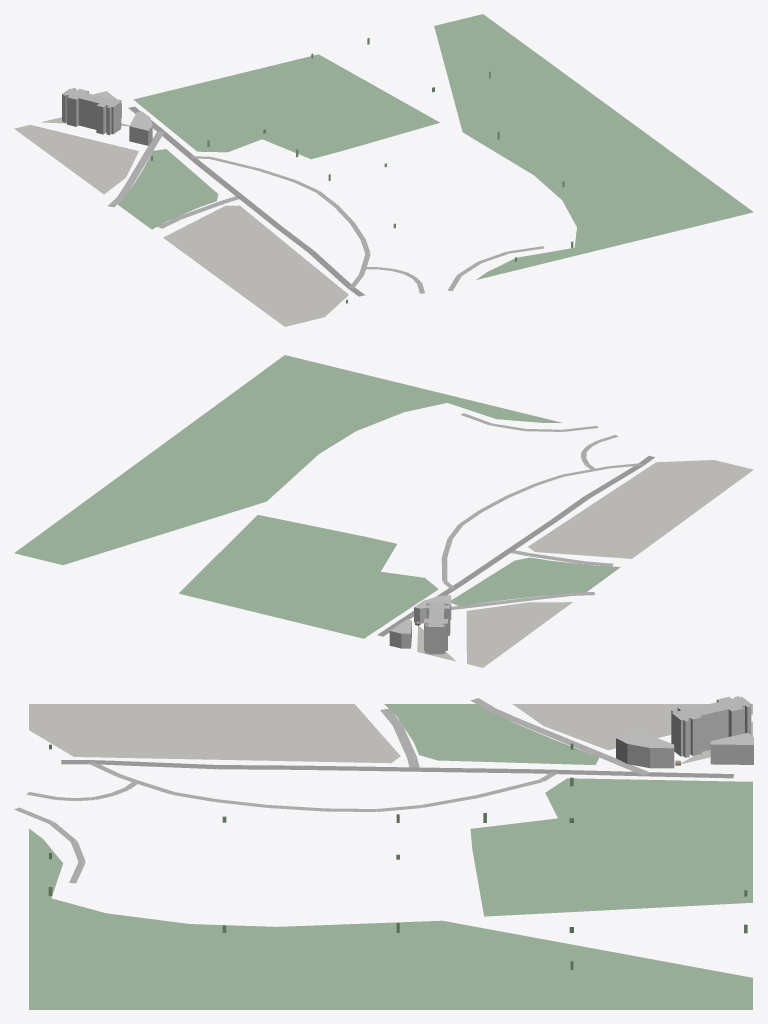
3 views of the same model, one above another, from view 1: azimuth 30°, elevation 25°; view 2: azimuth 150°, elevation 25°; view 3: azimuth 270°, elevation 25° (orthographic). The views are drawn at different scales.
Size of the model in its own units: 510 by 27.8 by 511.
